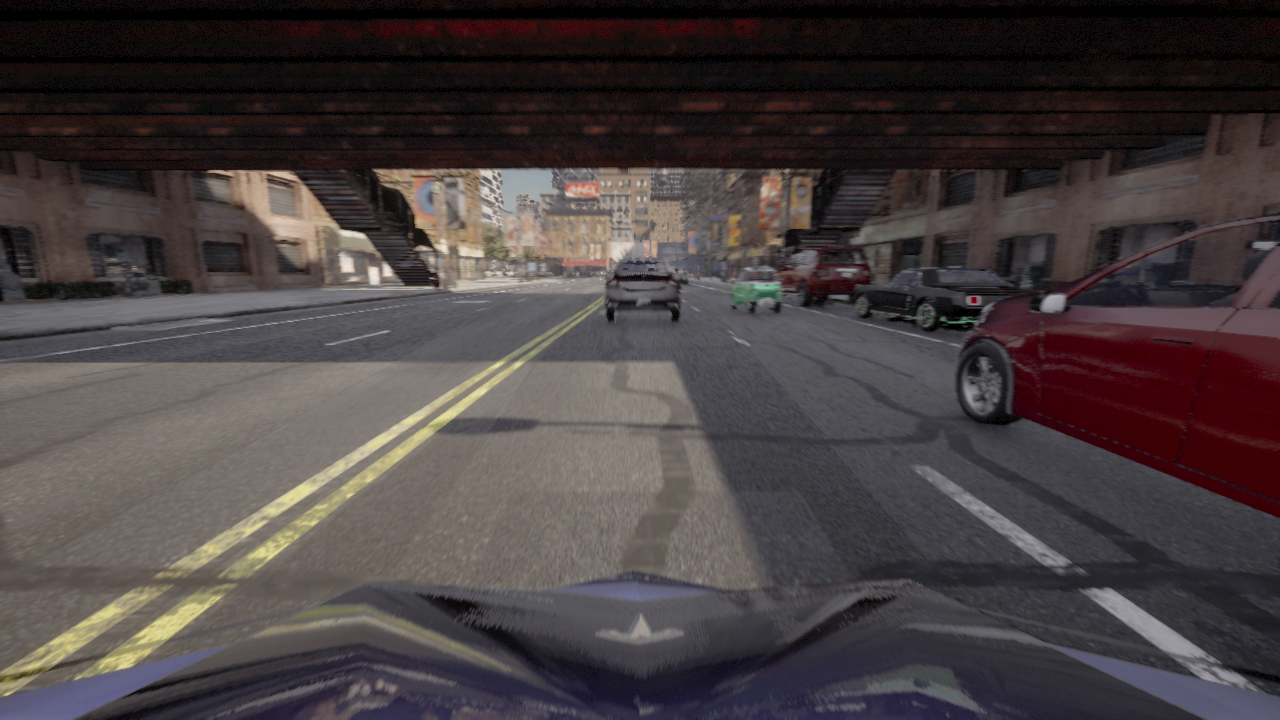cyclist: (0, 569, 1279, 719), (955, 212, 1279, 518), (852, 267, 1046, 330), (776, 247, 872, 306), (604, 260, 681, 321), (730, 266, 781, 313), (428, 269, 443, 290), (611, 260, 629, 274), (672, 269, 687, 284), (512, 271, 525, 277), (540, 272, 555, 277), (605, 271, 609, 275), (609, 272, 610, 274)
